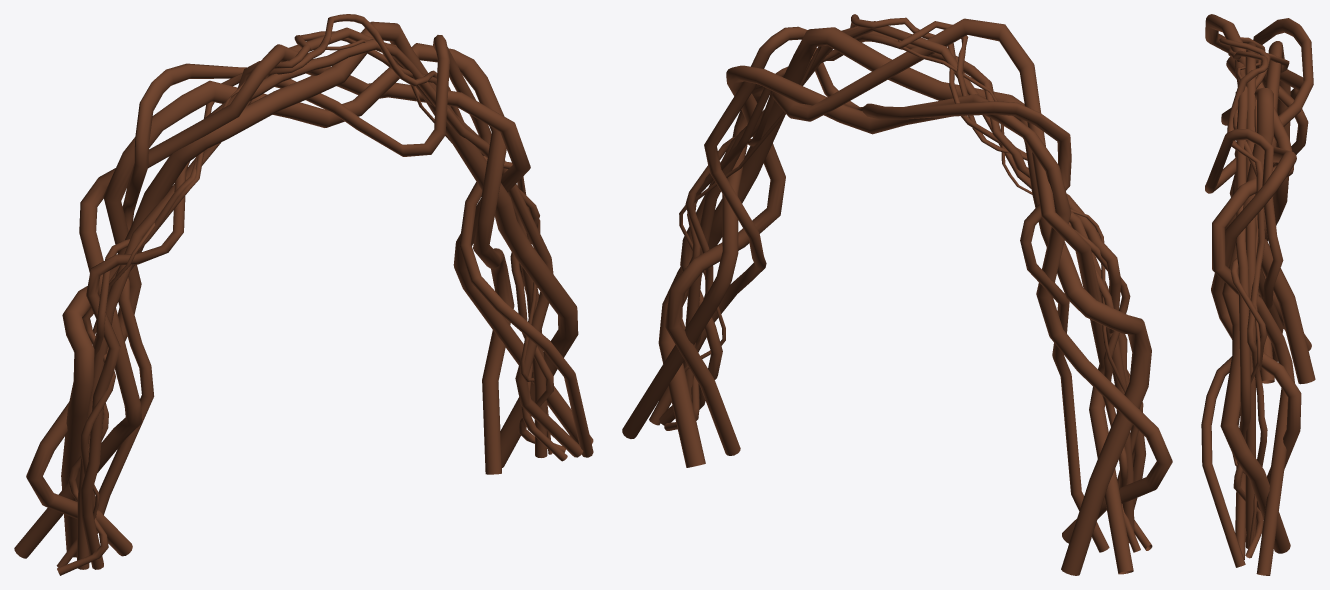
Rendered from SM_Wooden_Arch.fbx.
3 views of the same model, side by side, from view 1: azimuth 30°, elevation 25°; view 2: azimuth 150°, elevation 25°; view 3: azimuth 270°, elevation 25° (orthographic). The views are drawn at different scales.
Parts seen in each view (by area): view 1: SM_Wooden_Arch.001; view 2: SM_Wooden_Arch.001; view 3: SM_Wooden_Arch.001.
Part boxes in pixels (x1=…): SM_Wooden_Arch.001: x1=14, y1=14, x2=593, y2=575; SM_Wooden_Arch.001: x1=622, y1=14, x2=1172, y2=575; SM_Wooden_Arch.001: x1=1201, y1=14, x2=1315, y2=575.
Size of the model in its own units: 316 by 268 by 65.08.
